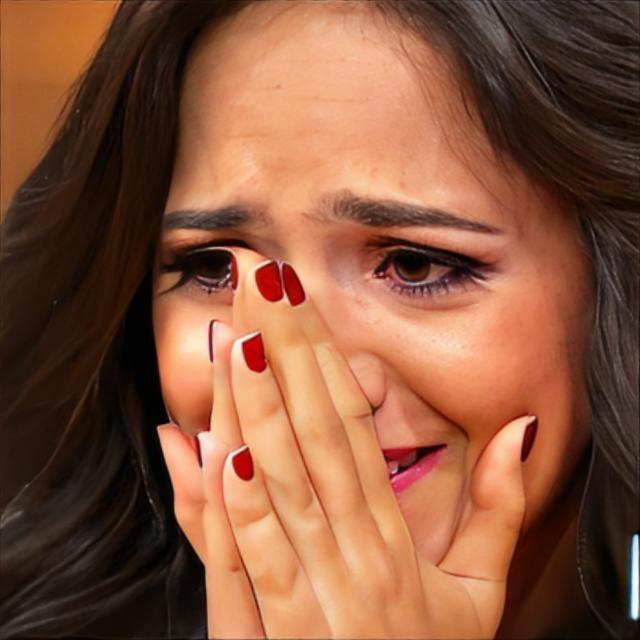sad: (150, 28, 584, 597)
